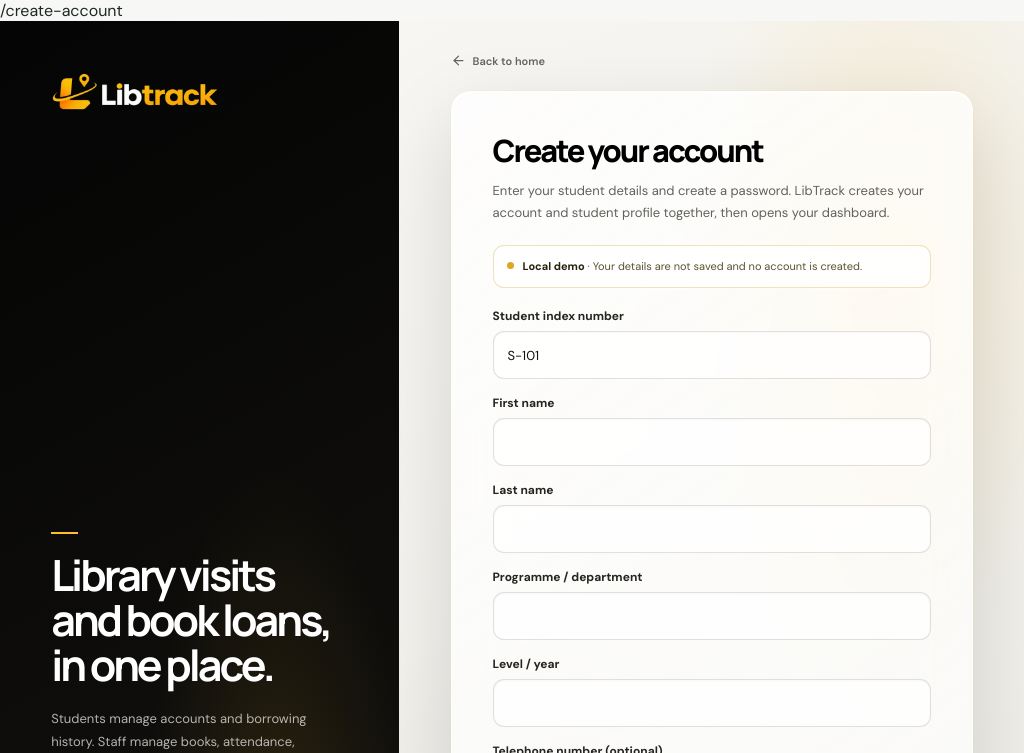
Test: LibTrack account screens › requires matching passwords when creating an account
The width and height of the screenshot is (1024, 753).
Earlier steps of the test are not shown.
Type "Ama" into the field labelled "First name" at [712, 442], box [492,418,931,466]
Type "Mensah" into the field labelled "Last name" at [712, 529], box [492,505,931,553]
Type "Computer Science" into the field labelled "Programme / department" at [712, 616], box [492,592,931,640]
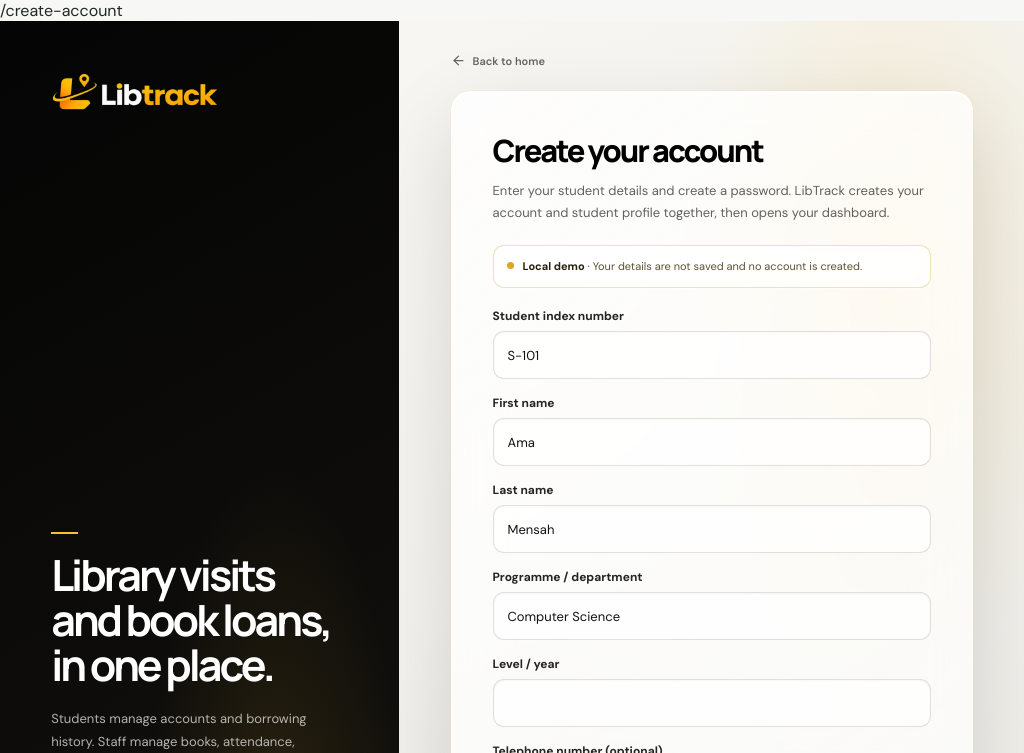
Type "Level 300" into the field labelled "Level / year" at [712, 703], box [492,679,931,727]
(page scrolled)
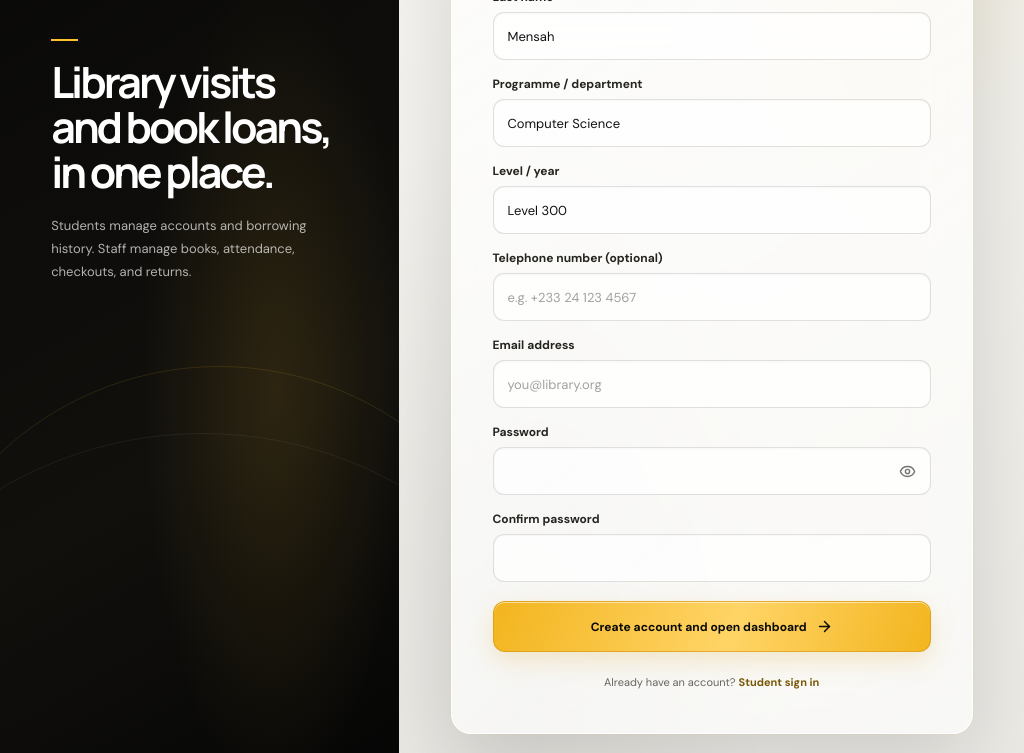
Type "jordan@example.test" into the field labelled "Email address" at [712, 384], box [492,360,931,408]
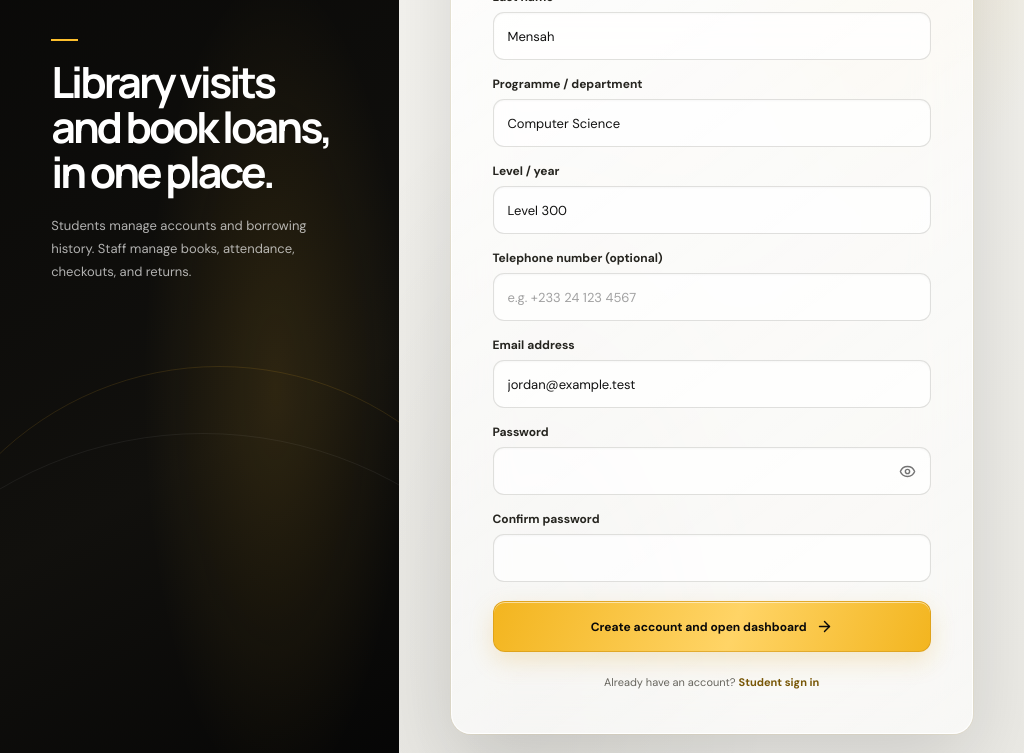
Type "password8" into the password field labelled "Password" at [712, 471], box [492,447,931,495]
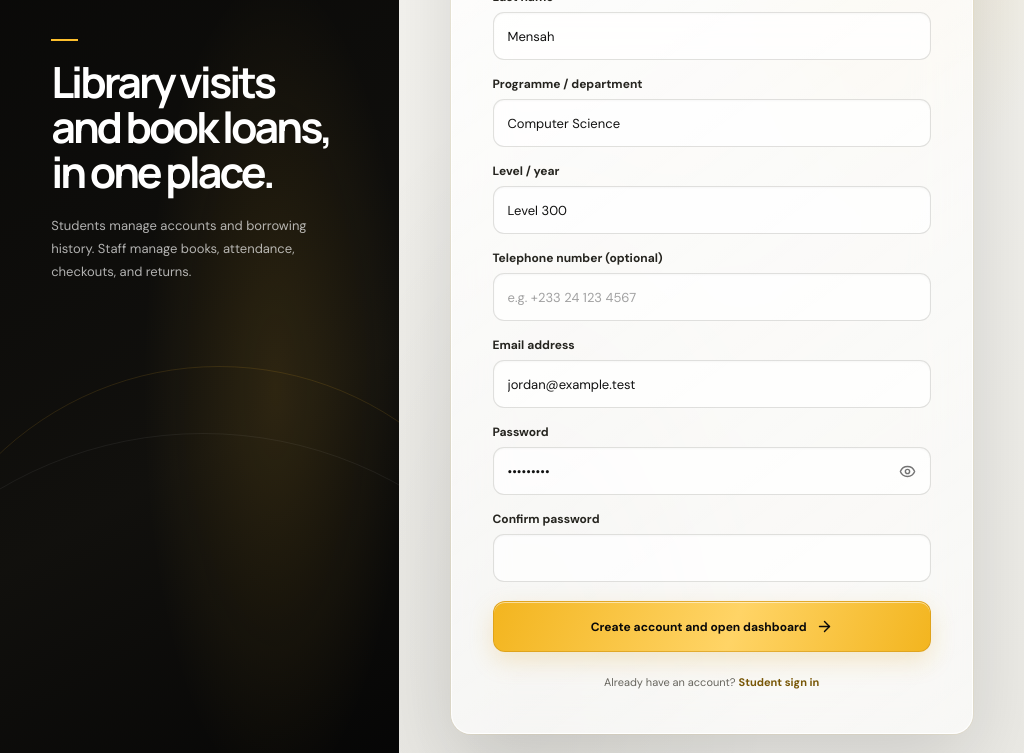
Type "different8" into the password field labelled "Confirm password" at [712, 558], box [492,534,931,582]
(page scrolled)
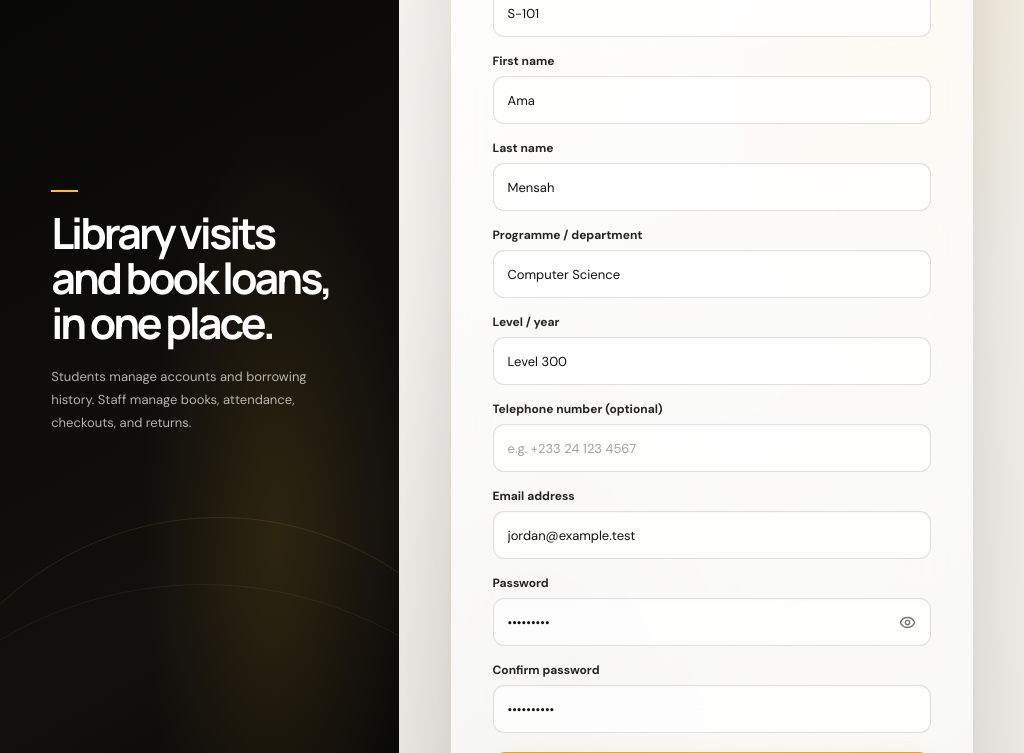
Submit the form named "Create your account"
(page scrolled)
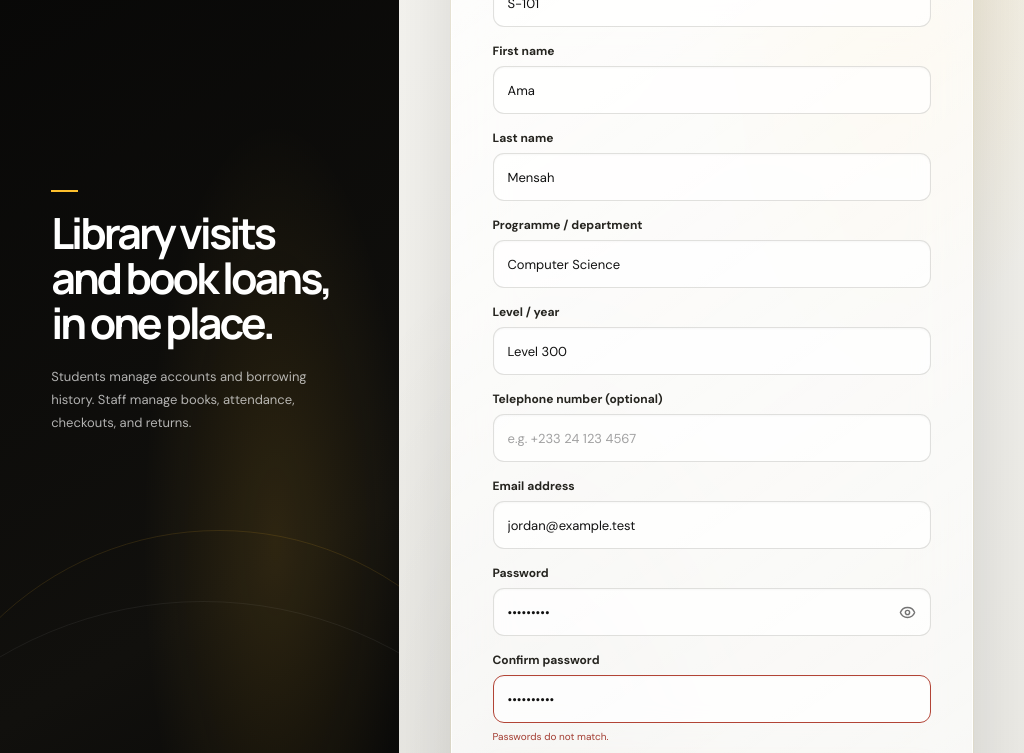
Now the text "Passwords do not match." is shown, box [492,730,608,743]
